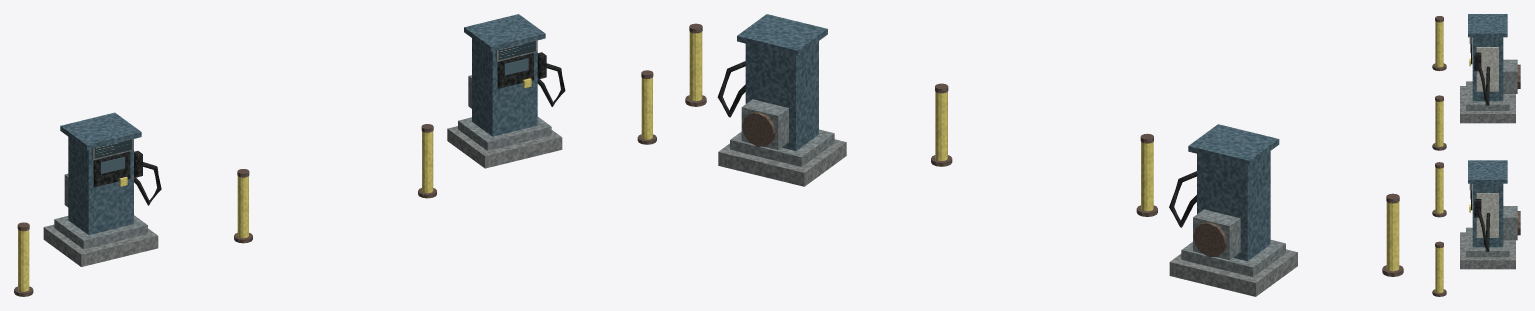
File: PZ_Fuel_Pump_Island.glb
3 views of the same model, side by side, from view 1: azimuth 30°, elevation 25°; view 2: azimuth 150°, elevation 25°; view 3: azimuth 270°, elevation 25° (orthographic). The views are drawn at different scales.
Parts seen in each view (by area): view 1: Pump_1_Main_Cabinet, Pump_2_Main_Cabinet, Pump_2_Base_Pad, Pump_1_Base_Pad, Pump_2_Upper_Rain_Cap, Pump_1_Upper_Rain_Cap, Pump_2_Anchor_Skid, Pump_1_Anchor_Skid, Pump_1_Front_Instrument_Inset, Pump_2_Front_Instrument_Inset, Guard_Bollard_04, Guard_Bollard_03 (+3 smaller); view 2: Pump_1_Main_Cabinet, Pump_2_Main_Cabinet, Pump_1_Base_Pad, Pump_2_Base_Pad, Pump_1_Upper_Rain_Cap, Pump_2_Upper_Rain_Cap, Pump_2_Anchor_Skid, Pump_1_Anchor_Skid, Pump_1_Rear_Motor_Housing, Pump_2_Rear_Motor_Housing, Guard_Bollard_01, Guard_Bollard_04 (+6 smaller); view 3: Pump_2_Main_Cabinet, Pump_1_Main_Cabinet, Pump_1_Base_Pad, Pump_2_Base_Pad, Pump_1_Upper_Rain_Cap, Pump_2_Upper_Rain_Cap, Pump_1_Side_Service_Door, Pump_2_Side_Service_Door, Pump_2_Anchor_Skid, Pump_1_Anchor_Skid, Pump_1_Rear_Motor_Housing, Pump_2_Rear_Motor_Housing (+14 smaller).
Boxes of the visible parts, bbox=[...] form: Pump_1_Main_Cabinet: bbox=[68, 137, 133, 234]; Pump_2_Main_Cabinet: bbox=[472, 38, 537, 136]; Pump_2_Base_Pad: bbox=[447, 126, 562, 168]; Pump_1_Base_Pad: bbox=[43, 224, 158, 266]; Pump_2_Upper_Rain_Cap: bbox=[464, 14, 545, 51]; Pump_1_Upper_Rain_Cap: bbox=[60, 112, 141, 150]; Pump_2_Anchor_Skid: bbox=[458, 117, 551, 150]; Pump_1_Anchor_Skid: bbox=[54, 215, 147, 249]; Pump_1_Front_Instrument_Inset: bbox=[93, 151, 130, 187]; Pump_2_Front_Instrument_Inset: bbox=[497, 53, 533, 88]; Guard_Bollard_04: bbox=[641, 77, 652, 144]; Guard_Bollard_03: bbox=[422, 131, 433, 193]; Pump_1_Main_Cabinet: bbox=[1197, 151, 1270, 261]; Pump_2_Main_Cabinet: bbox=[745, 41, 818, 150]; Pump_1_Base_Pad: bbox=[1169, 249, 1297, 296]; Pump_2_Base_Pad: bbox=[718, 139, 846, 186]; Pump_1_Upper_Rain_Cap: bbox=[1188, 124, 1279, 166]; Pump_2_Upper_Rain_Cap: bbox=[737, 14, 827, 56]; Pump_2_Anchor_Skid: bbox=[730, 129, 834, 166]; Pump_1_Anchor_Skid: bbox=[1181, 240, 1285, 276]; Pump_1_Rear_Motor_Housing: bbox=[1193, 209, 1240, 260]; Pump_2_Rear_Motor_Housing: bbox=[741, 99, 788, 149]; Guard_Bollard_01: bbox=[1386, 202, 1399, 276]; Guard_Bollard_04: bbox=[689, 32, 702, 101]; Pump_2_Main_Cabinet: bbox=[1472, 183, 1503, 247]; Pump_1_Main_Cabinet: bbox=[1472, 37, 1503, 101]; Pump_1_Base_Pad: bbox=[1460, 86, 1515, 123]; Pump_2_Base_Pad: bbox=[1460, 232, 1515, 269]; Pump_1_Upper_Rain_Cap: bbox=[1468, 14, 1507, 37]; Pump_2_Upper_Rain_Cap: bbox=[1468, 160, 1507, 183]; Pump_1_Side_Service_Door: bbox=[1476, 47, 1498, 91]; Pump_2_Side_Service_Door: bbox=[1476, 193, 1498, 237]; Pump_2_Anchor_Skid: bbox=[1466, 227, 1509, 257]; Pump_1_Anchor_Skid: bbox=[1466, 81, 1509, 110]; Pump_1_Rear_Motor_Housing: bbox=[1503, 59, 1517, 93]; Pump_2_Rear_Motor_Housing: bbox=[1503, 206, 1517, 240].
Bounding box in the file's own units: 10.78 × 1.85 × 1.73.
9 materials, 8 textured.
